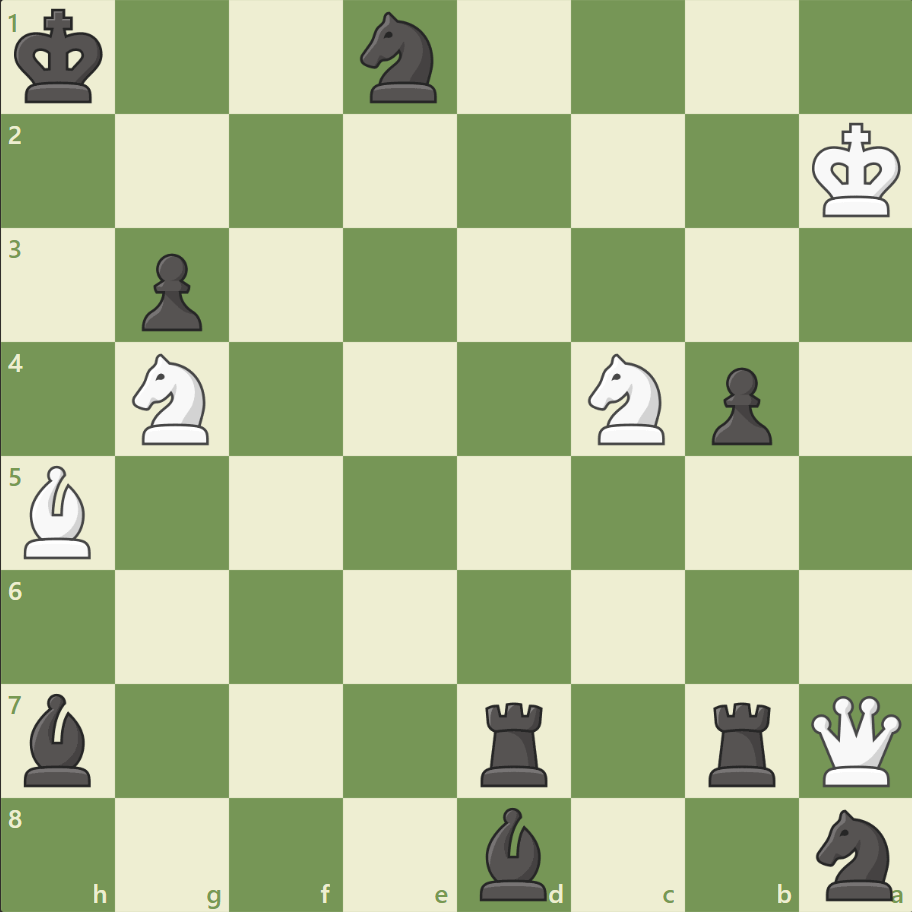B: (17, 460, 101, 563)
K: (806, 117, 906, 225)
N: (124, 348, 222, 450), (579, 348, 676, 450)
Q: (805, 690, 904, 789)
b: (471, 801, 555, 904), (17, 687, 101, 790)
k: (11, 4, 111, 112)
n: (351, 7, 449, 110), (806, 802, 903, 904)
p: (701, 359, 776, 450), (133, 246, 208, 337)
r: (700, 693, 783, 790), (473, 693, 556, 790)
